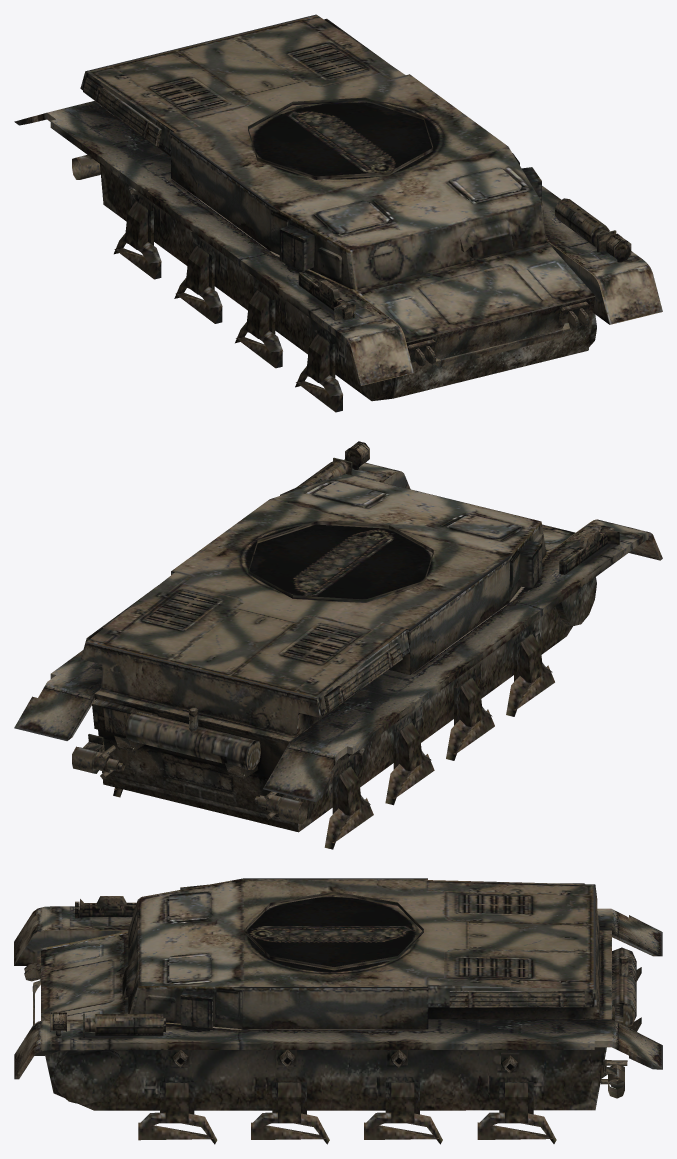
Rendered from Body.fbx.
3 views of the same model, one above another, from view 1: azimuth 30°, elevation 25°; view 2: azimuth 150°, elevation 25°; view 3: azimuth 270°, elevation 25° (orthographic). The views are drawn at different scales.
Parts seen in each view (by area): view 1: Body; view 2: Body; view 3: Body.
Part boxes in pixels (x1,y1,x2,y2): Body: (14, 14, 662, 412); Body: (14, 441, 662, 849); Body: (14, 878, 662, 1144).
Size of the model in its own units: 337 by 189 by 670.
